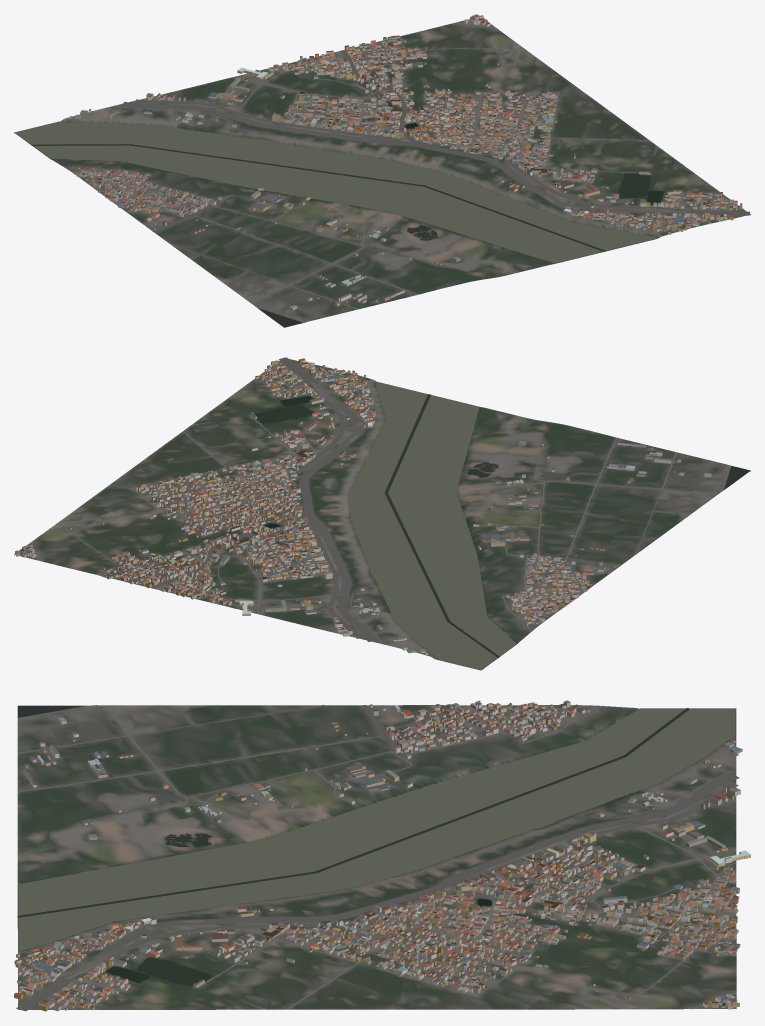
3 renders of one model, top to bottom at view 1: azimuth 30°, elevation 25°; view 2: azimuth 150°, elevation 25°; view 3: azimuth 270°, elevation 25°, orthographic. The views are drawn at different scales.
Visible parts, largest first — view 1: ground, water, buildings, roads; view 2: ground, water, buildings, roads; view 3: ground, water, buildings, roads.
Part boxes in pixels (x1=…): ground: x1=14, y1=19, x2=750, y2=327; water: x1=15, y1=122, x2=664, y2=327; buildings: x1=69, y1=14, x2=742, y2=310; roads: x1=64, y1=19, x2=749, y2=322; ground: x1=14, y1=357, x2=750, y2=670; water: x1=255, y1=381, x2=749, y2=669; buildings: x1=15, y1=358, x2=711, y2=654; roads: x1=25, y1=357, x2=731, y2=652; ground: x1=17, y1=705, x2=736, y2=1009; water: x1=17, y1=705, x2=735, y2=986; buildings: x1=14, y1=700, x2=750, y2=1011; roads: x1=16, y1=705, x2=739, y2=1011.
Bounding box in the file's own units: 1410 × 25.21 × 1438.
